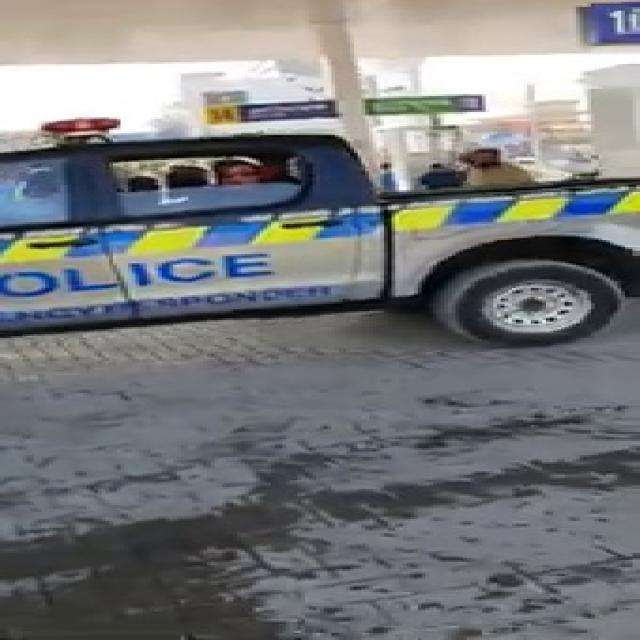police: (1, 137, 606, 347)
